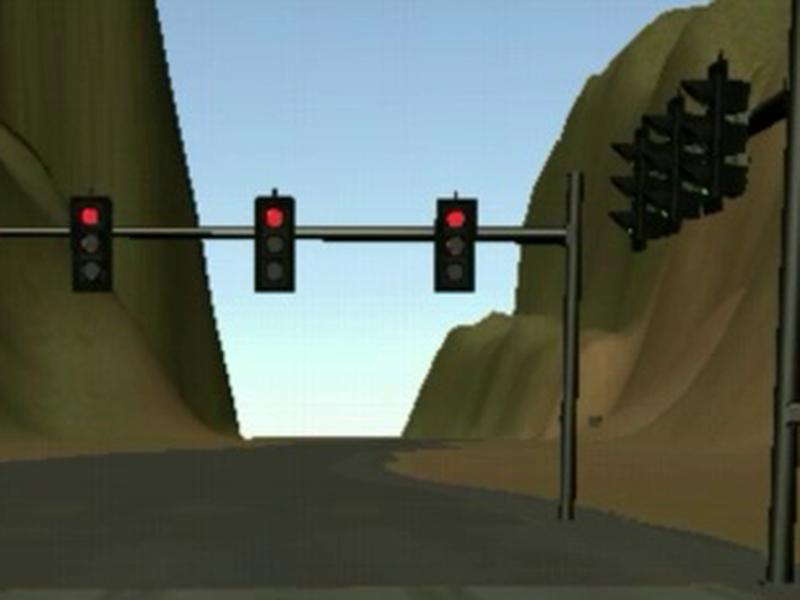Red: (68, 196, 113, 293), (432, 198, 476, 291), (254, 197, 295, 293)
